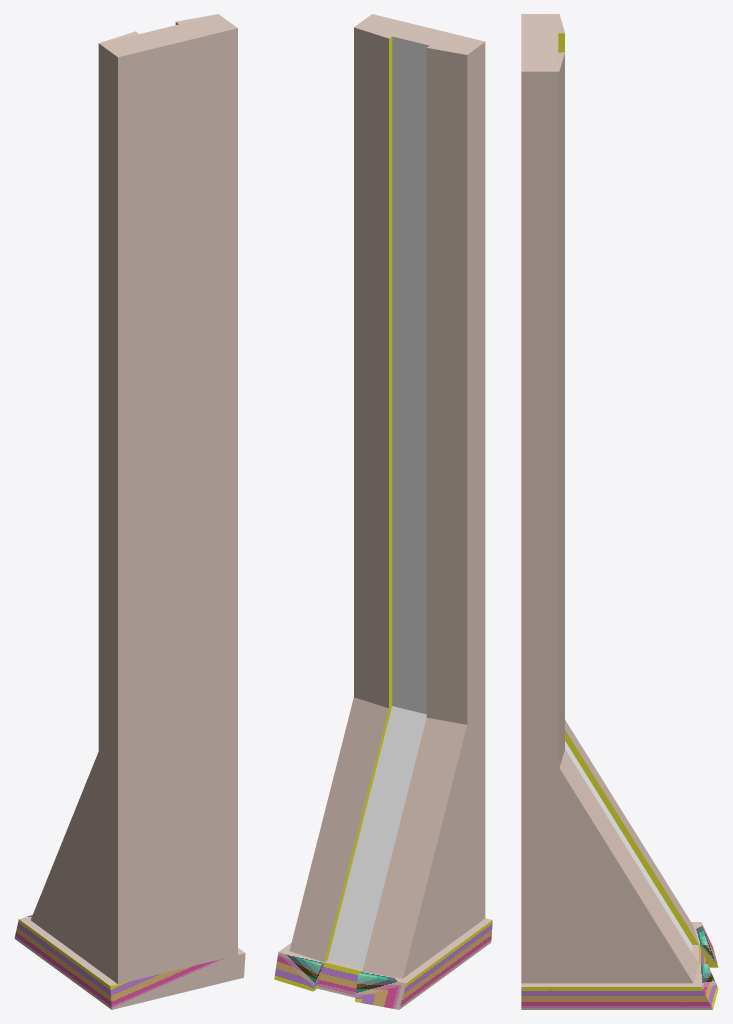
Rendered from market_anglepillor.fbx.
3 views of the same model, side by side, from view 1: azimuth 30°, elevation 25°; view 2: azimuth 150°, elevation 25°; view 3: azimuth 270°, elevation 25° (orthographic). The views are drawn at different scales.
Parts seen in each view (by area): view 1: market_anglepillar; view 2: market_anglepillar; view 3: market_anglepillar.
Boxes of the visible parts, box(x1,y1,x2,y2) form: market_anglepillar: box(14, 14, 245, 1009); market_anglepillar: box(274, 14, 492, 1009); market_anglepillar: box(521, 14, 718, 1009).
Size of the model in its own units: 26.68 by 34.24 by 179.
